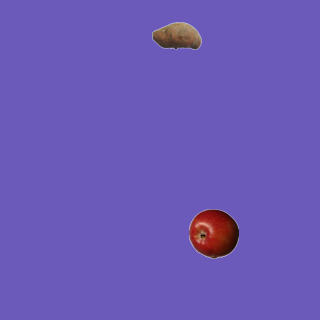Apple Braeburn: (188, 208, 238, 258)
Potato Sweet: (151, 10, 201, 60)
